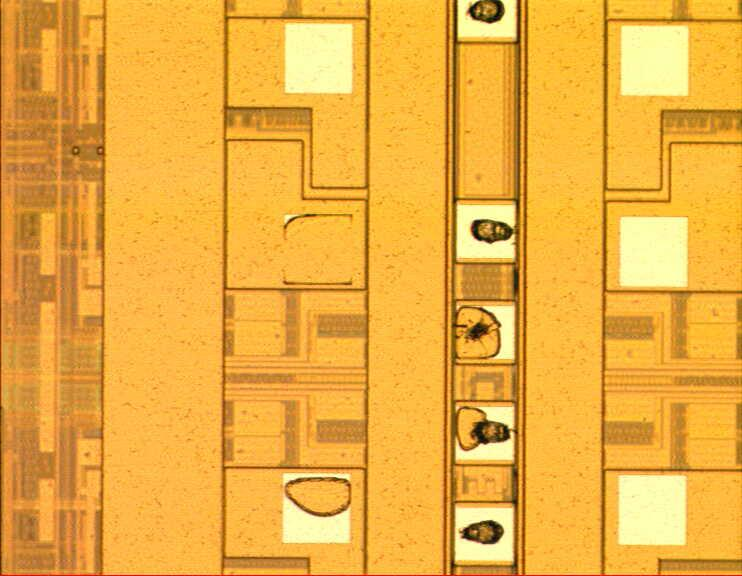BLOCK ETCH: (278, 1, 513, 548)
